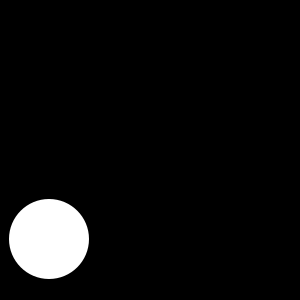rectangle: (9, 199, 89, 279)
